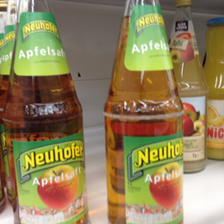juice: (4, 1, 89, 223), (102, 1, 185, 224), (170, 1, 206, 174)
